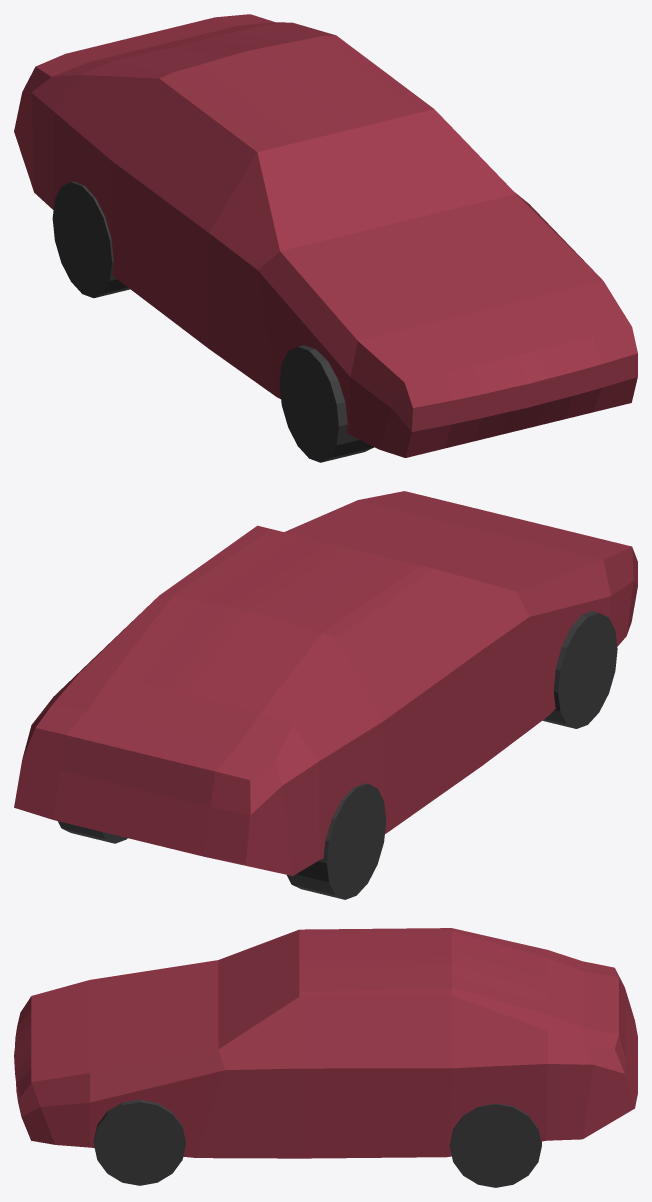
The model's file is Car.fbx.
3 views of the same model, one above another, from view 1: azimuth 30°, elevation 25°; view 2: azimuth 150°, elevation 25°; view 3: azimuth 270°, elevation 25° (orthographic). The views are drawn at different scales.
Parts seen in each view (by area): view 1: Cube; view 2: Cube; view 3: Cube.
Boxes of the visible parts, x1,y1,x2,y2 form: Cube: (14, 14, 637, 462); Cube: (14, 491, 637, 899); Cube: (14, 928, 637, 1187).
Bounding box in the file's own units: 141 × 111 × 352.
